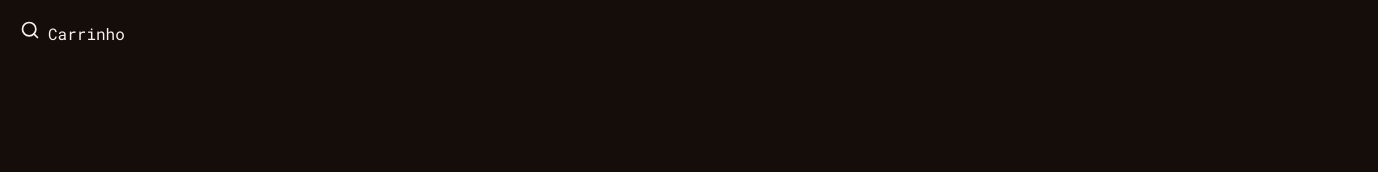
it: HeaderSearch › clique fora fecha sem mexer no foco; clique no campo não fecha
Later steps or results of the test are not shown.
Click the button named "Buscar NFTs" at (30, 30), box [12,12,48,48]
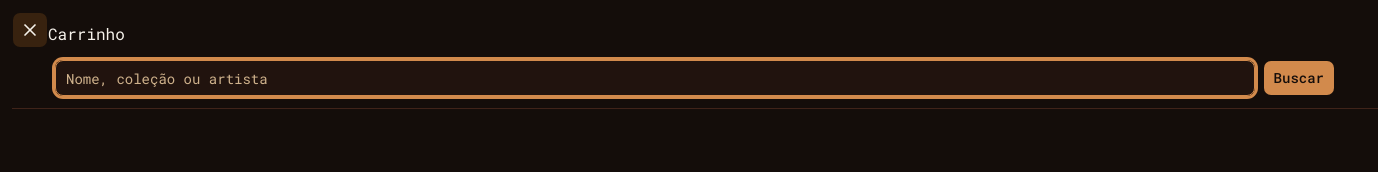
Press the mouse on the search field at (655, 78), box [55,60,1255,96]
Expected: the form named "Buscar NFTs" is shown, [12,48,1377,109]
